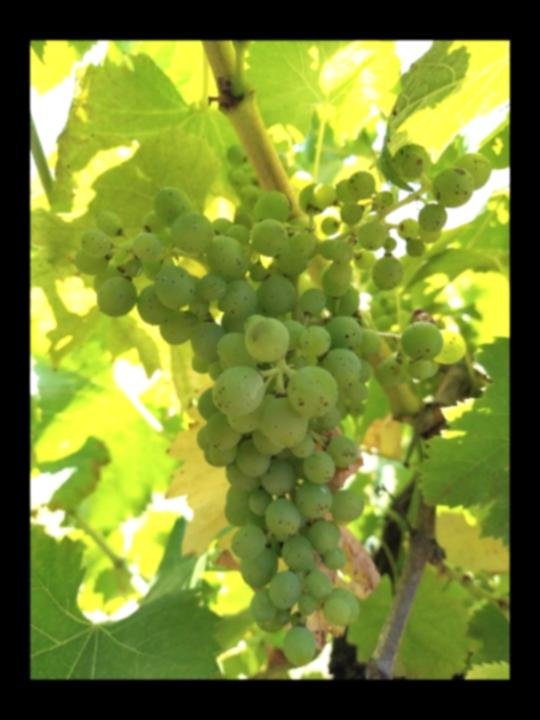grape: (77, 143, 495, 670)
